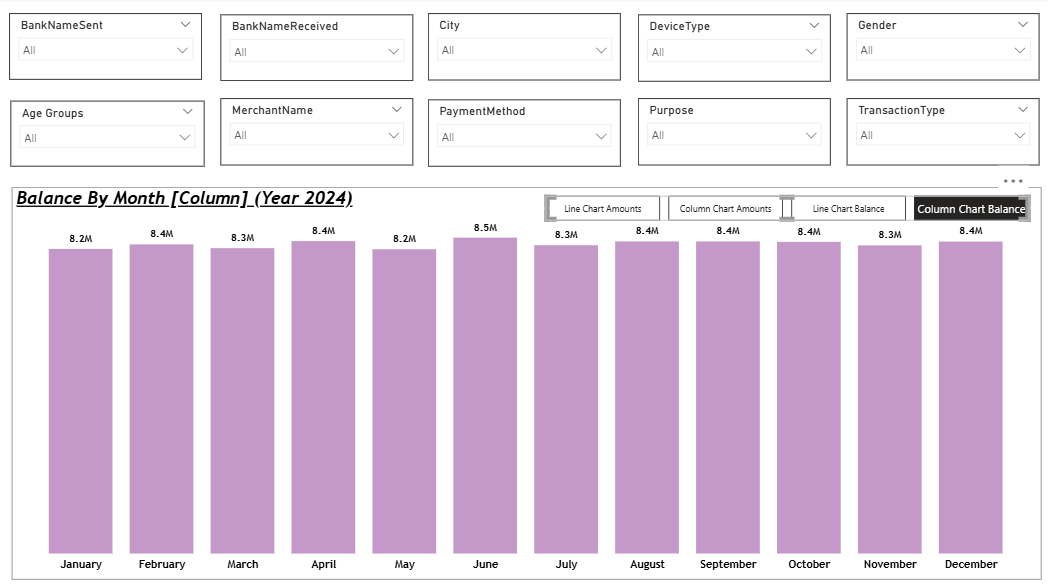

Layout of this report page (visuals, bound fields, positions):
{"tool":"powerbi","page":{"name":"Page 1","canvas":[1280,720],"ordinal":0},"visuals":[{"type":"slicer","fields":{"Values":["UPI Transactions.BankNameSent"]},"box":[20,20,232,80],"z":0},{"type":"slicer","fields":{"Values":["UPI Transactions.BankNameReceived"]},"box":[274.4,20.6,232,80],"z":1000},{"type":"slicer","fields":{"Values":["UPI Transactions.City"]},"box":[524,20,232,81],"z":2000},{"type":"slicer","fields":{"Values":["UPI Transactions.DeviceType"]},"box":[776,20.6,232,81],"z":3000},{"type":"slicer","fields":{"Values":["UPI Transactions.Gender"]},"box":[1028,20,232,81],"z":4000},{"type":"slicer","fields":{"Values":["UPI Transactions.Age Groups"]},"box":[20.6,124.9,233.3,79.6],"z":5000},{"type":"slicer","fields":{"Values":["UPI Transactions.MerchantName"]},"box":[274.4,122.1,231.9,81],"z":6000},{"type":"slicer","fields":{"Values":["UPI Transactions.PaymentMethod"]},"box":[524.2,123.5,231.9,81],"z":7000},{"type":"slicer","fields":{"Values":["UPI Transactions.Purpose"]},"box":[776.7,122.1,231.9,81],"z":8000},{"type":"slicer","fields":{"Values":["UPI Transactions.TransactionType"]},"box":[1027.8,122.1,231.9,81],"z":9000},{"type":"columnChart","title":"Balance By Month [Column] (Year 2024)","fields":{"Category":["UPI Transactions.TransactionDate.Variation.Date Hierarchy.Month"],"Y":["Sum(UPI Transactions.RemainingBalance)"]},"box":[21.8,228.7,1239.7,472.7],"z":12000},{"type":"bookmarkNavigator","box":[665.3,239.3,582.5,30.1],"z":14000}]}

Visuals, with their boxes in screenshot pixels (x1, y1, x2, y2), scaled from the page's 1280x720 canvas onto the 1048x588 screenshot:
slicer - UPI Transactions.BankNameSent: BBox(16, 16, 206, 82)
slicer - UPI Transactions.BankNameReceived: BBox(225, 17, 415, 82)
slicer - UPI Transactions.City: BBox(429, 16, 619, 82)
slicer - UPI Transactions.DeviceType: BBox(635, 17, 825, 83)
slicer - UPI Transactions.Gender: BBox(842, 16, 1032, 82)
slicer - UPI Transactions.Age Groups: BBox(17, 102, 208, 167)
slicer - UPI Transactions.MerchantName: BBox(225, 100, 415, 166)
slicer - UPI Transactions.PaymentMethod: BBox(429, 101, 619, 167)
slicer - UPI Transactions.Purpose: BBox(636, 100, 826, 166)
slicer - UPI Transactions.TransactionType: BBox(842, 100, 1031, 166)
"Balance By Month [Column] (Year 2024)" columnChart: BBox(18, 187, 1033, 573)
bookmarkNavigator: BBox(545, 195, 1022, 220)
